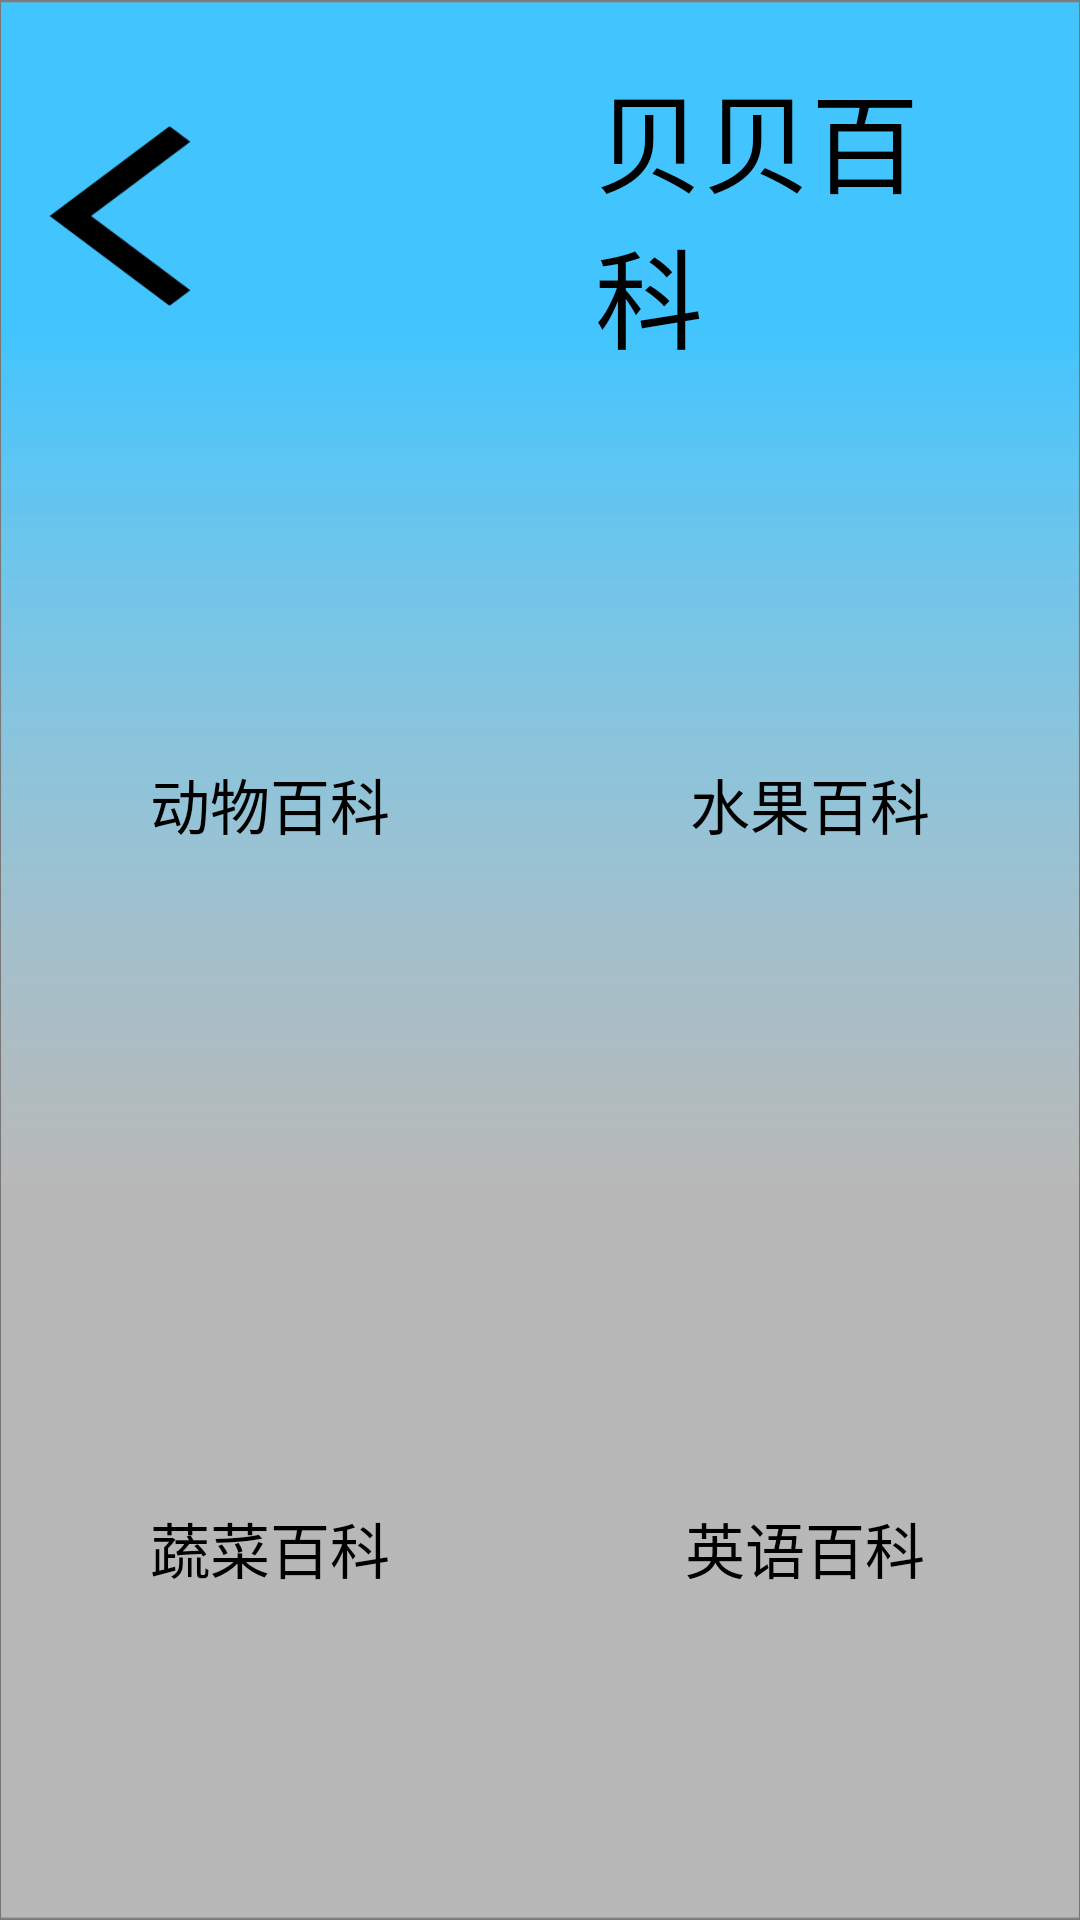

Where to tap for icons on this 1080*1920 app screen, as (x=x, y=y):
arrow: (x=120, y=216)
